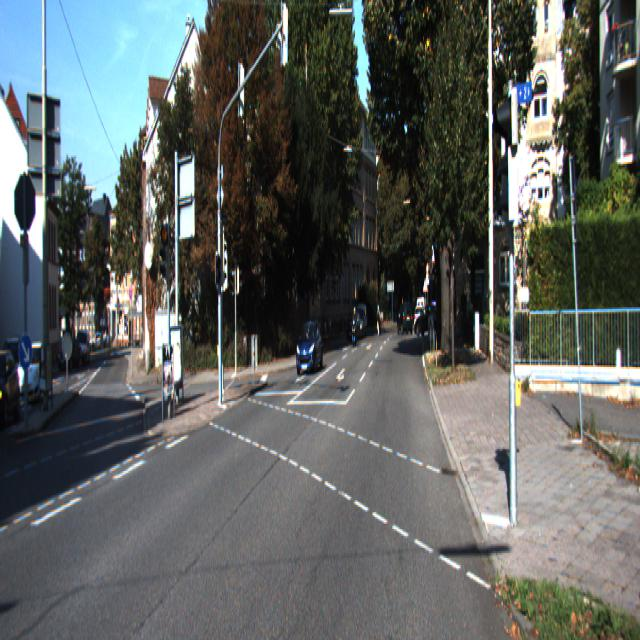Car: (0, 346, 21, 434), (296, 317, 324, 376), (351, 304, 359, 346)
